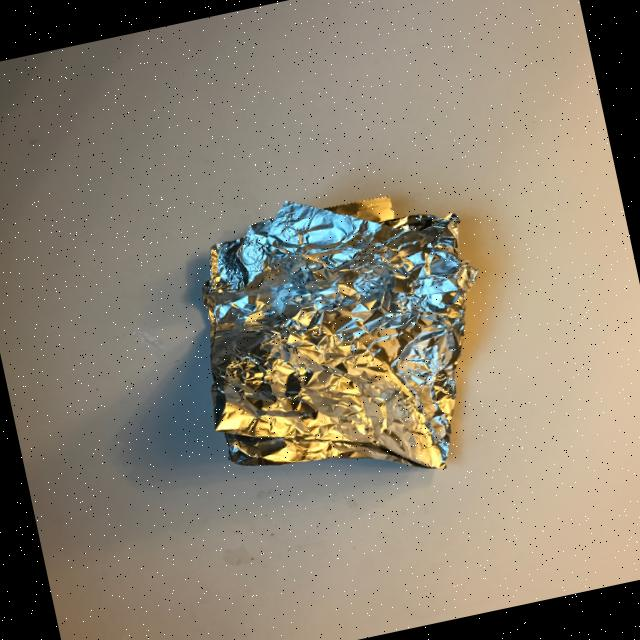metal: (170, 164, 517, 514)
